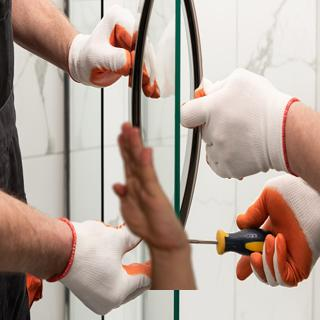RIGHT: (105, 117, 187, 254)
